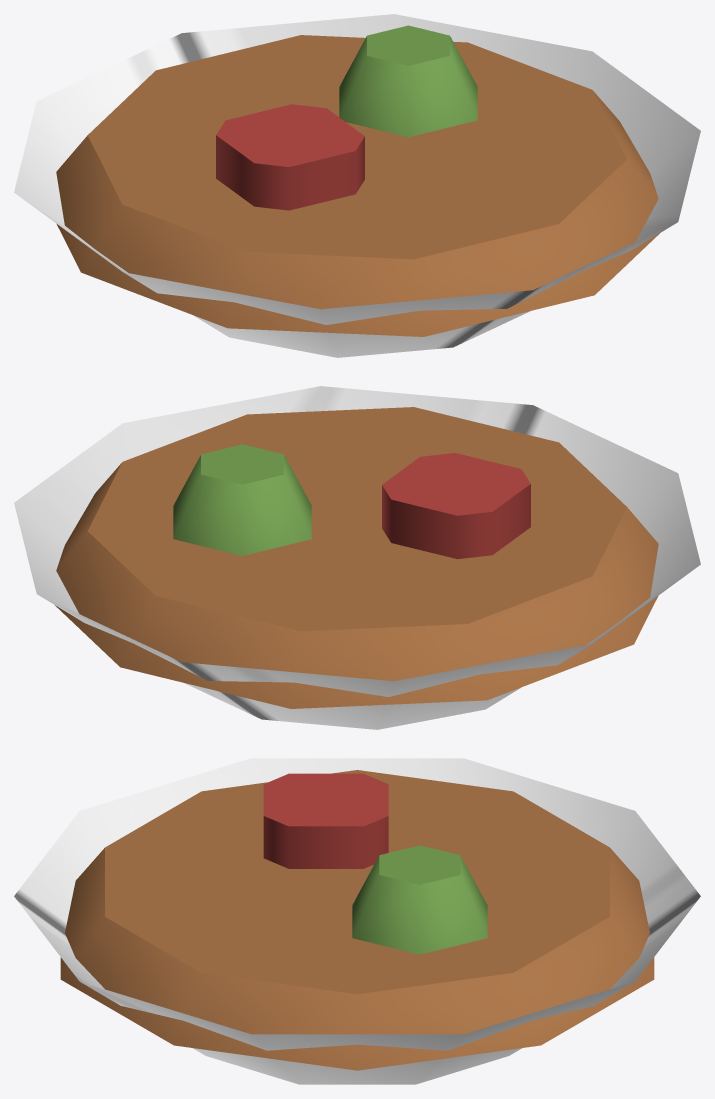
Rendered from meal_fine.obj.
3 renders of one model, top to bottom at view 1: azimuth 30°, elevation 25°; view 2: azimuth 150°, elevation 25°; view 3: azimuth 270°, elevation 25°, orthographic. The views are drawn at different scales.
Parts seen in each view (by area): view 1: part_021_food_stew, dish, part_039_meat, part_032_food_green; view 2: part_021_food_stew, dish, part_039_meat, part_032_food_green; view 3: part_021_food_stew, dish, part_032_food_green, part_039_meat.
Part boxes in pixels (left/top/right/bottom): part_021_food_stew: left=56, top=35, right=659, bottom=336; dish: left=14, top=14, right=700, bottom=357; part_039_meat: left=216, top=104, right=364, bottom=210; part_032_food_green: left=339, top=25, right=477, bottom=137; part_021_food_stew: left=55, top=407, right=658, bottom=708; dish: left=14, top=386, right=700, bottom=729; part_039_meat: left=382, top=453, right=530, bottom=559; part_032_food_green: left=173, top=444, right=311, bottom=555; part_021_food_stew: left=60, top=770, right=654, bottom=1070; dish: left=14, top=758, right=700, bottom=1084; part_032_food_green: left=352, top=845, right=487, bottom=954; part_039_meat: left=263, top=773, right=388, bottom=868.
Bounding box in the file's own units: 0.4184 × 0.13 × 0.44.
